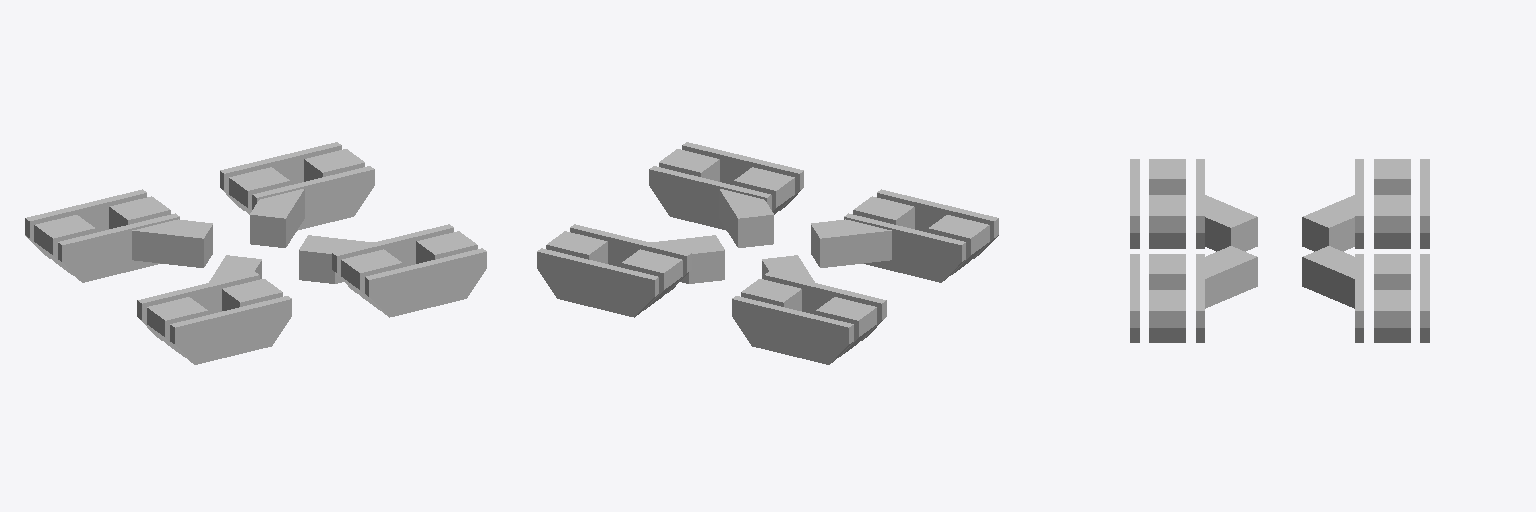
Rendered from coredrill_vagons.obj.
The picture shows the model from 3 angles: view 1: azimuth 30°, elevation 25°; view 2: azimuth 150°, elevation 25°; view 3: azimuth 270°, elevation 25°; orthographic projection.
Parts seen in each view (by area): view 1: cube; view 2: cube; view 3: cube.
Part boxes in pixels (left/top/right/bottom): cube: left=25, top=142, right=486, bottom=364; cube: left=537, top=142, right=998, bottom=364; cube: left=1130, top=159, right=1429, bottom=342.
Bounding box in the file's own units: 9.62 × 1.25 × 8.